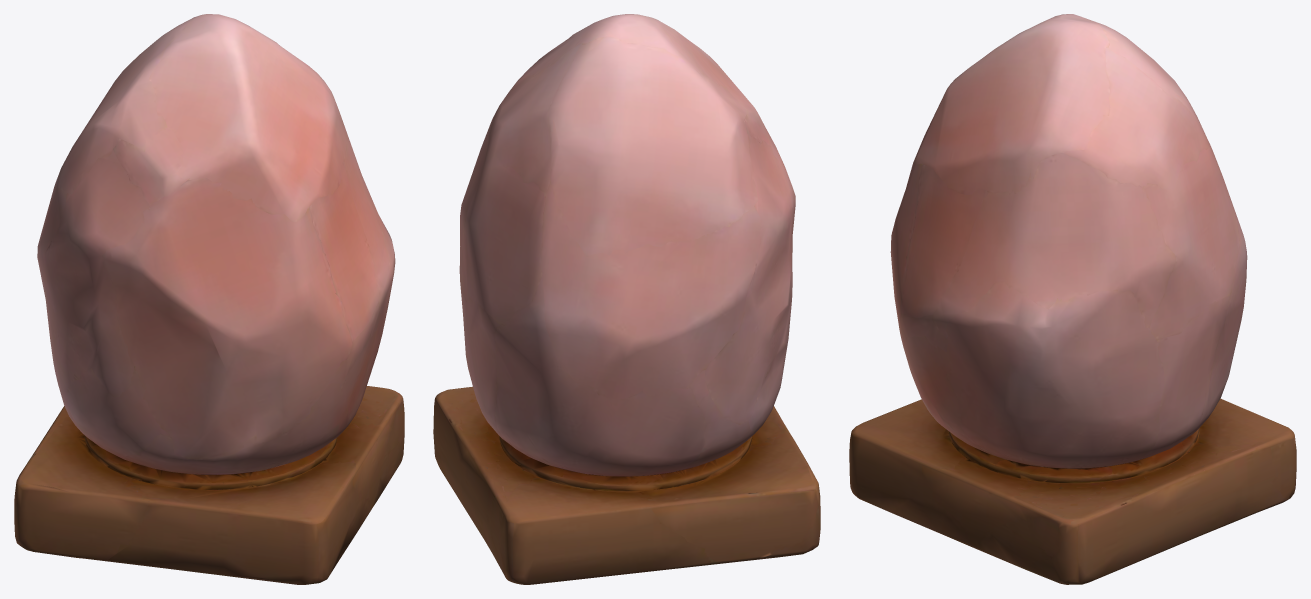
The model's file is lamp-salt-lite.glb.
3 renders of one model, left to right at view 1: azimuth 30°, elevation 25°; view 2: azimuth 150°, elevation 25°; view 3: azimuth 270°, elevation 25°, orthographic.
Visible parts, largest first — view 1: node_0; view 2: node_0; view 3: node_0.
Part boxes in pixels (x1,y1,x2,y2): node_0: (14,14,404,584); node_0: (433,14,820,584); node_0: (849,14,1296,584).
Bounding box in the file's own units: 0.7743 × 0.9341 × 0.789.
Materials: 1 (1 with a texture image).
